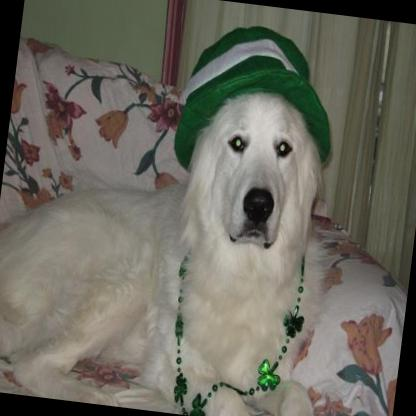Great_Pyrenees: (0, 53, 361, 416)
